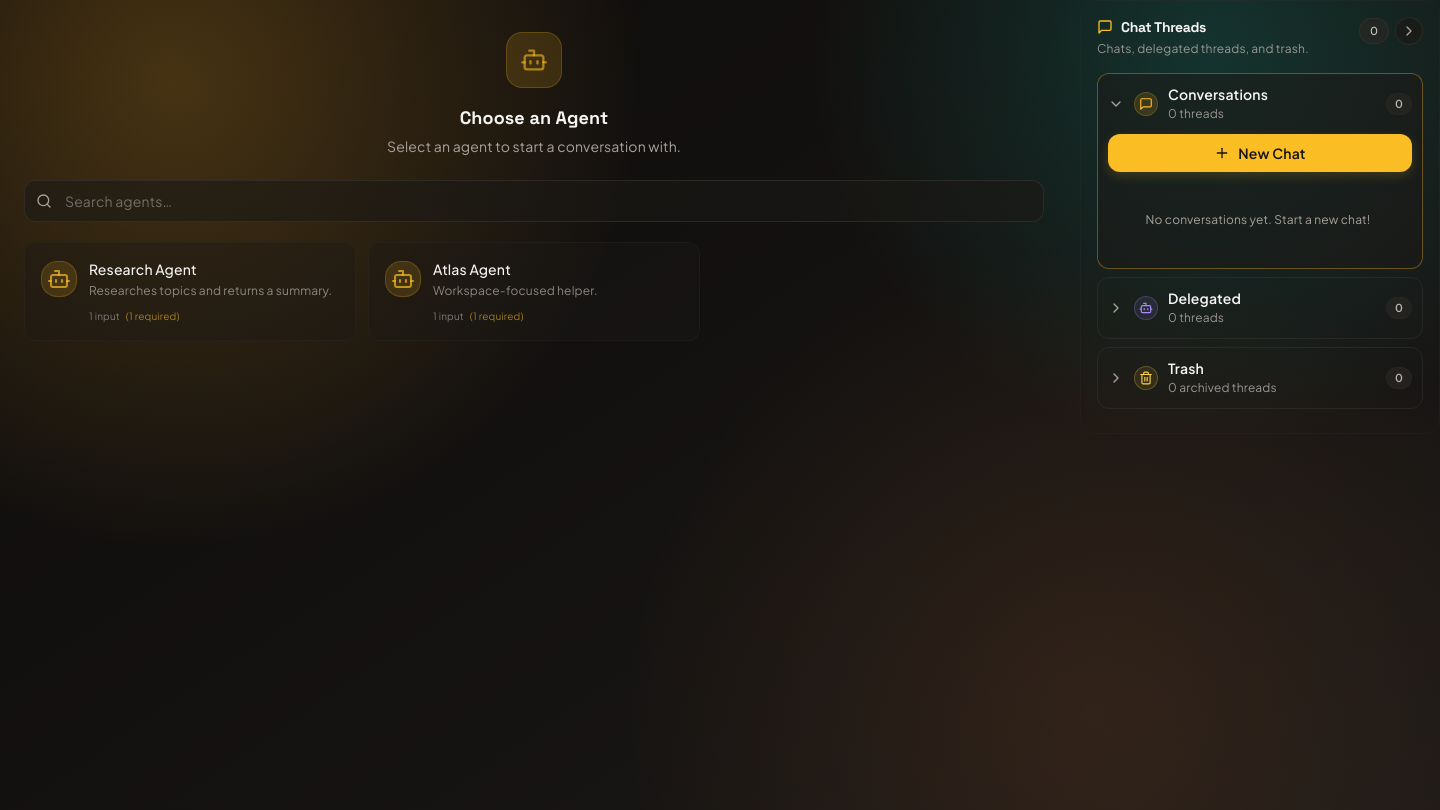
Test: AgentChatPage global start state › enters draft chat mode without creating an empty conversation
Step 1. Click the text "Research Agent" → (143, 269), box [89,260,197,278]
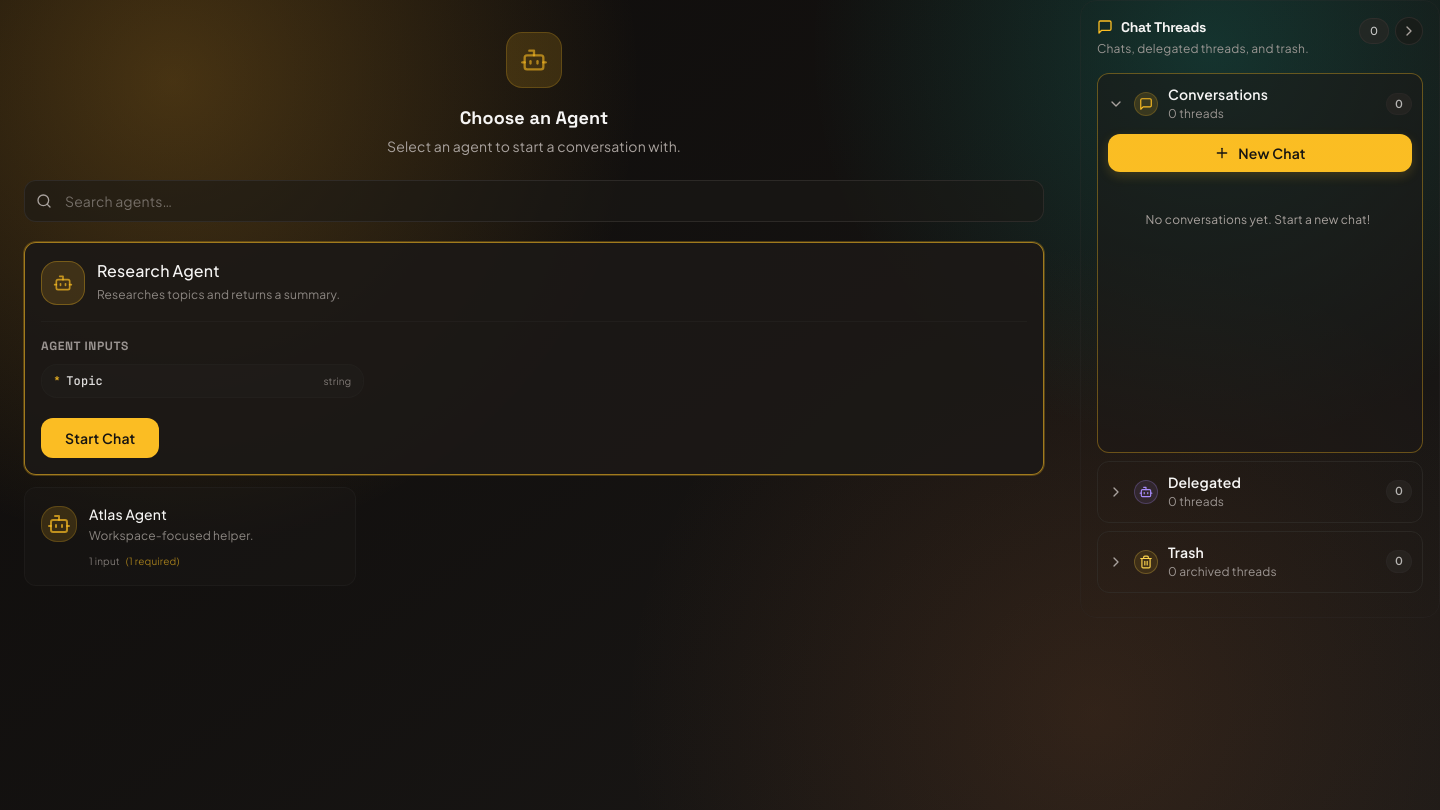
Check: the text "Researches topics and returns a summary." is shown, box [97,287,340,302]
Check: the button "Start Chat" is shown, box [41,418,159,458]
